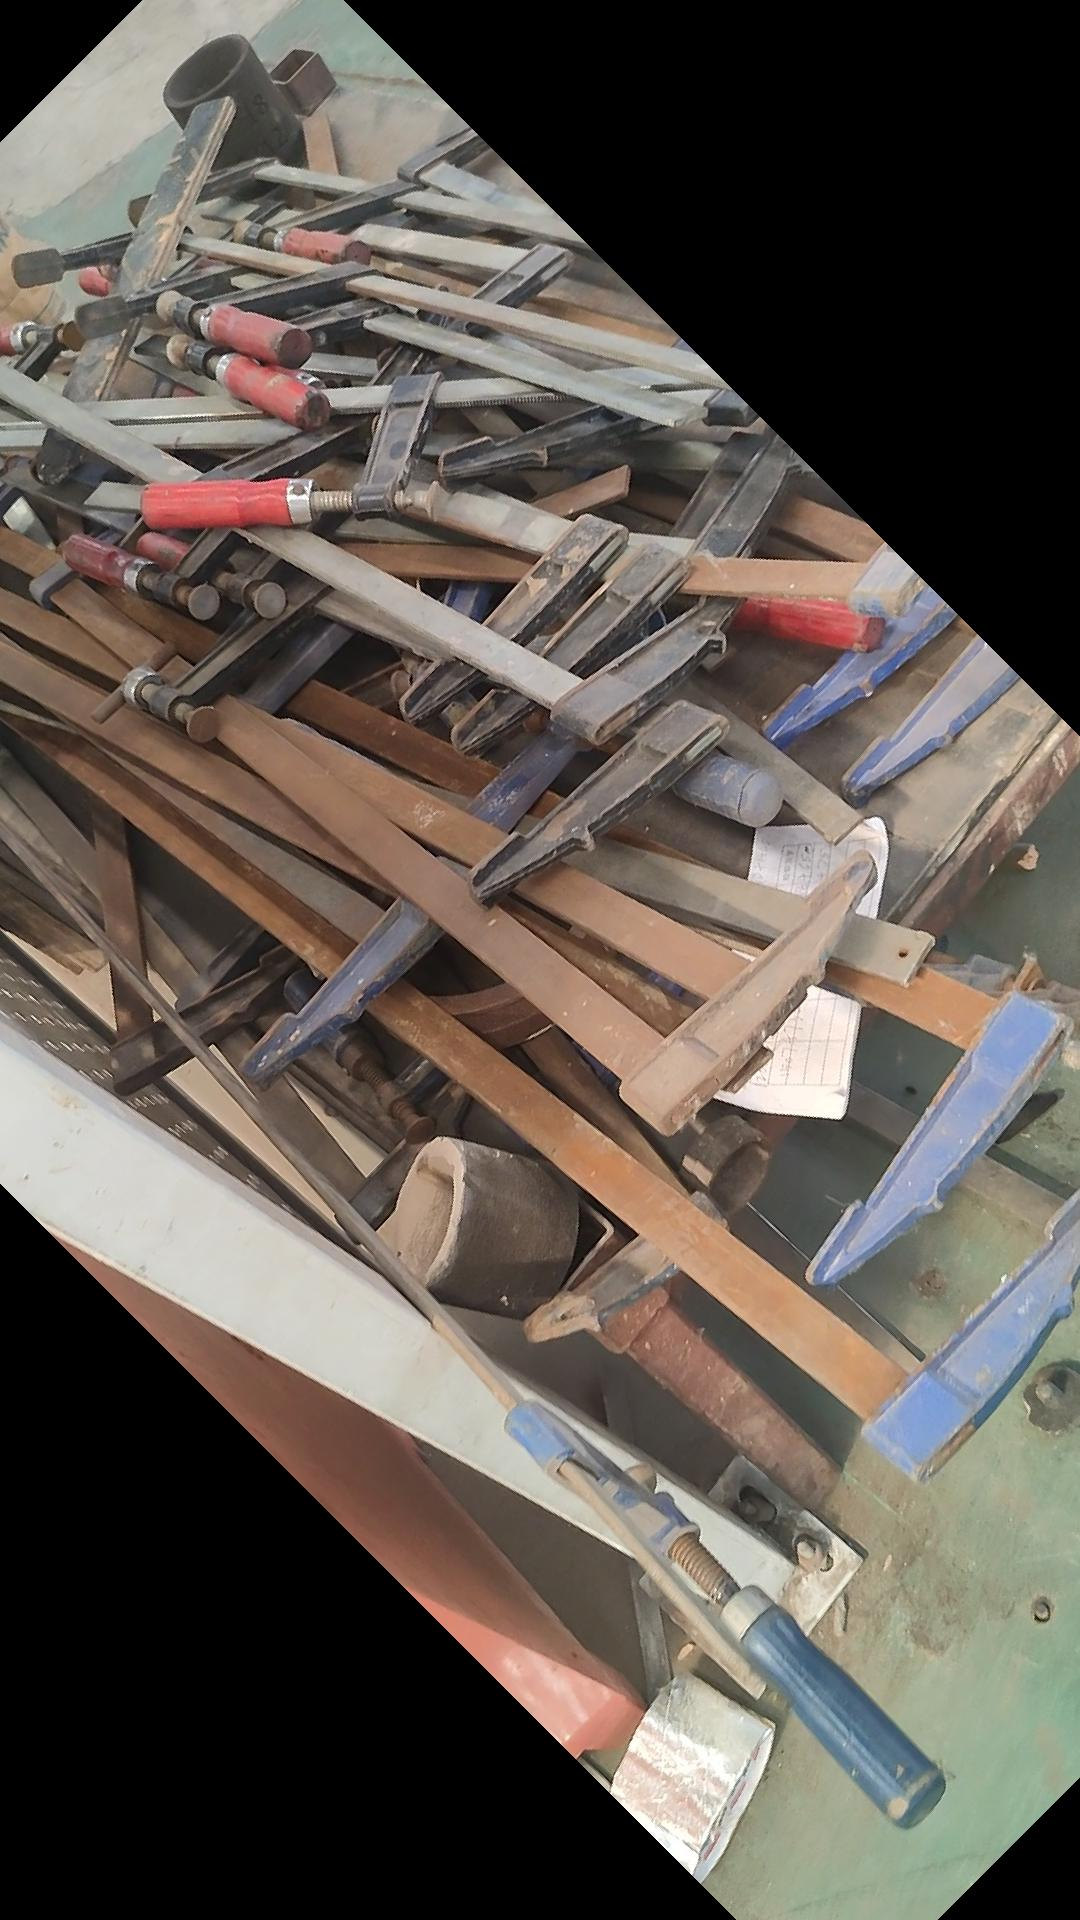pouring hole: (164, 34, 247, 105)
